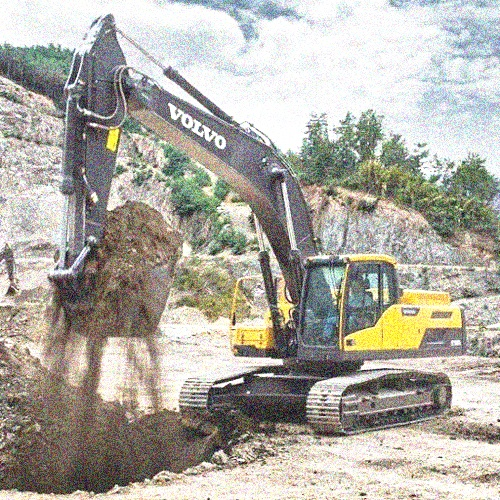Excavadora: (49, 13, 469, 436)
